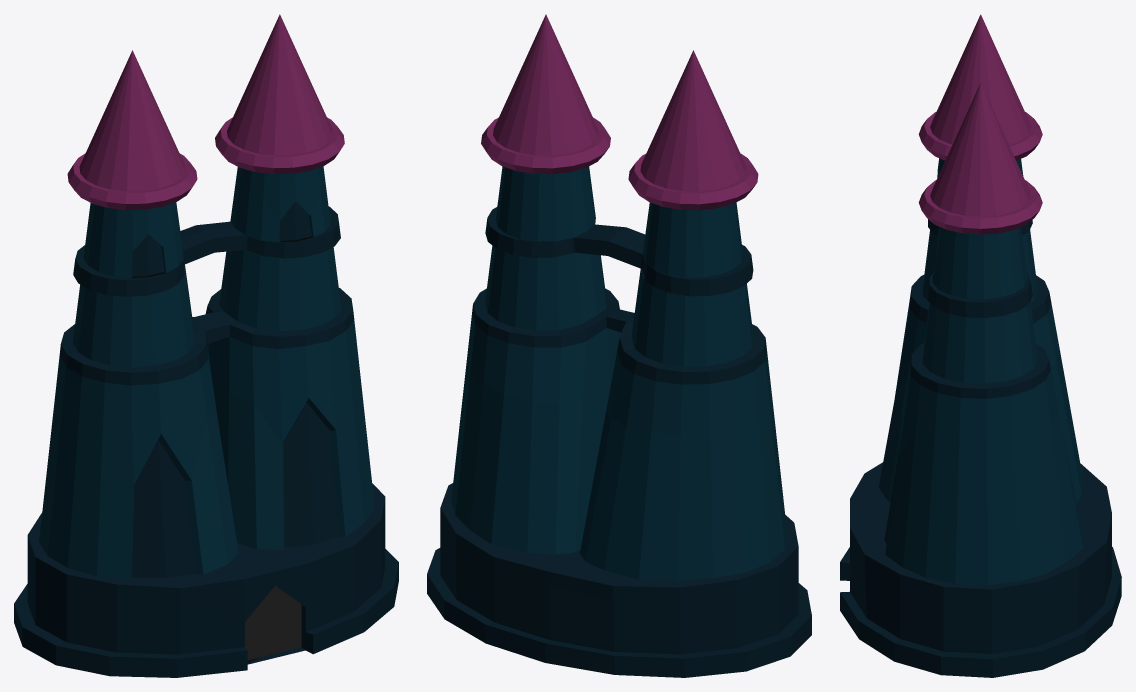
The model's file is tower2.fbx.
The picture shows the model from 3 angles, left to right: view 1: azimuth 30°, elevation 25°; view 2: azimuth 150°, elevation 25°; view 3: azimuth 270°, elevation 25°; orthographic projection. The views are drawn at different scales.
Visible parts, largest first — view 1: Cylinder; view 2: Cylinder; view 3: Cylinder.
Part boxes in pixels (left/top/right/bottom): Cylinder: left=14, top=14, right=398, bottom=677; Cylinder: left=427, top=14, right=811, bottom=677; Cylinder: left=840, top=14, right=1121, bottom=677.
Size of the model in its own units: 1075 by 1668 by 778.
